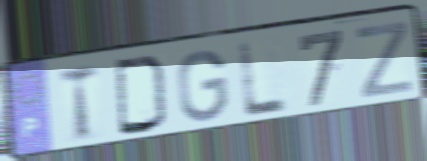7: (296, 27, 345, 109)
D: (112, 54, 172, 139)
G: (176, 47, 231, 125)
L: (237, 39, 292, 121)
T: (57, 61, 102, 145)
Z: (354, 18, 414, 101)
